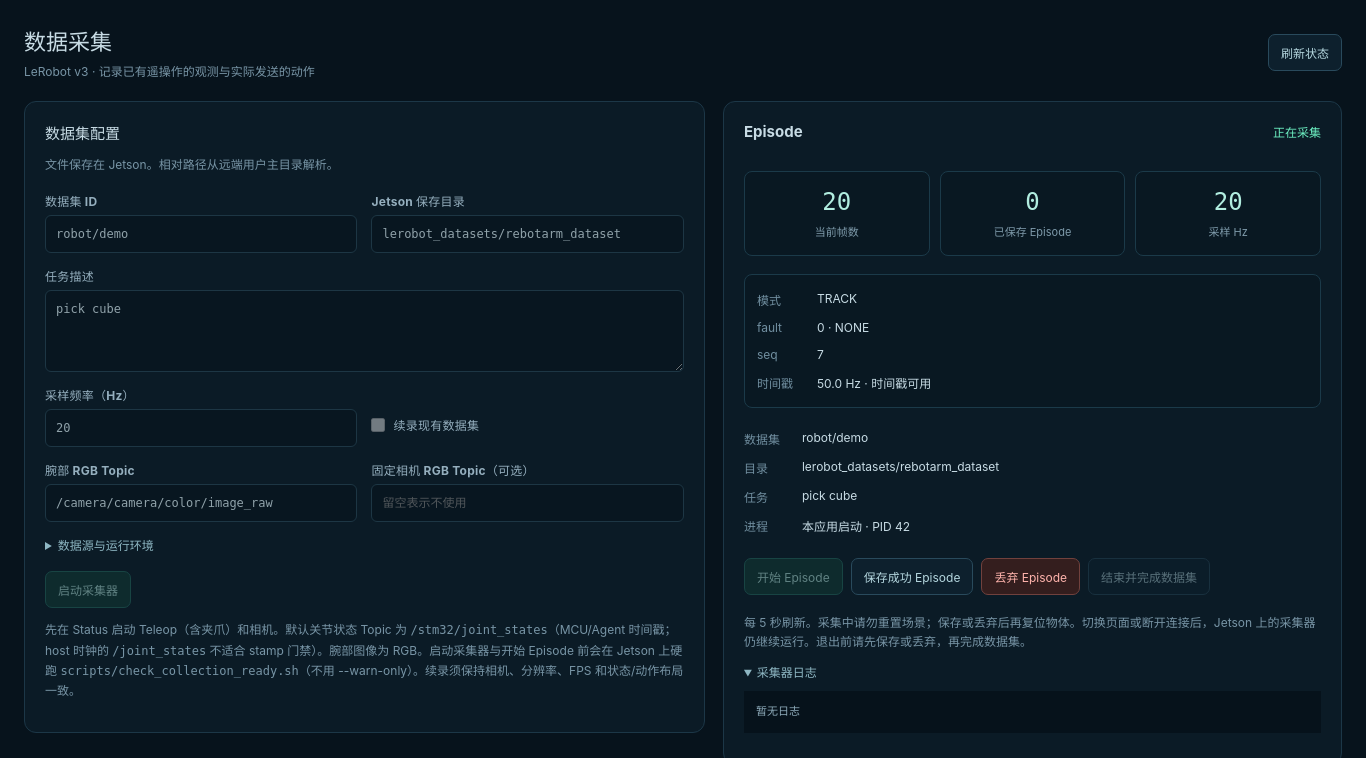
DataCollectionPage › requires explicit discard and keeps the failure visible
The width and height of the screenshot is (1366, 758).
Expected: the text "正在采集" is shown, [1273, 123, 1321, 140]
Click the button "丢弃 Episode" at (1031, 576), box [981, 558, 1080, 595]
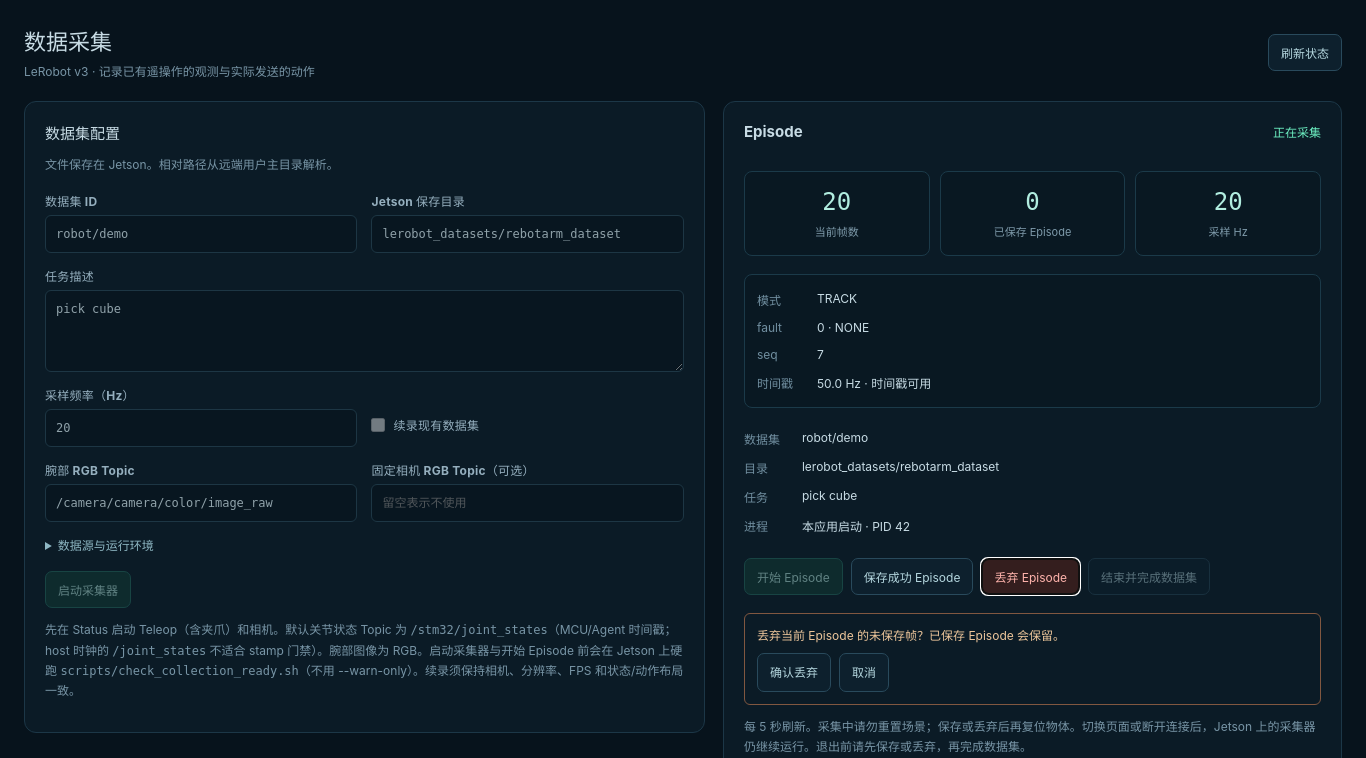
Click the button "确认丢弃" at (794, 673), box [757, 653, 831, 692]
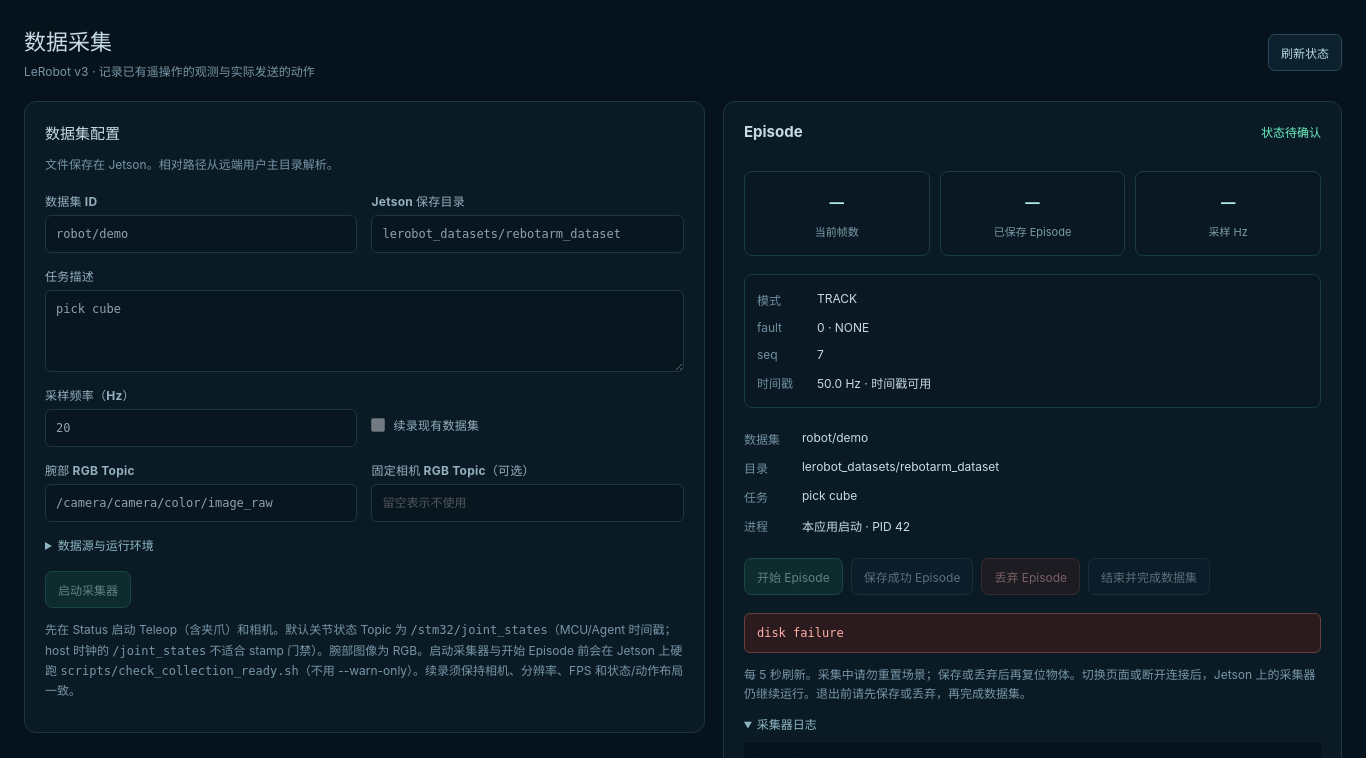
Expected: the button "开始 Episode" is disabled, [744, 558, 843, 595]
Expected: the message reads "disk failure", [757, 626, 844, 640]
